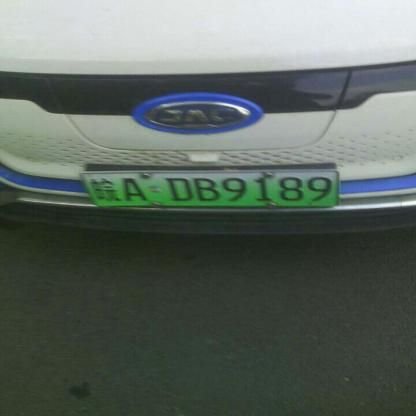lp: (80, 170, 340, 207)
